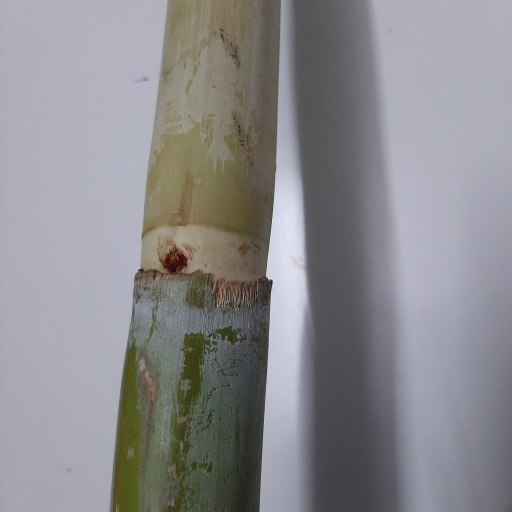Damage_Bud: (161, 242, 187, 273)
